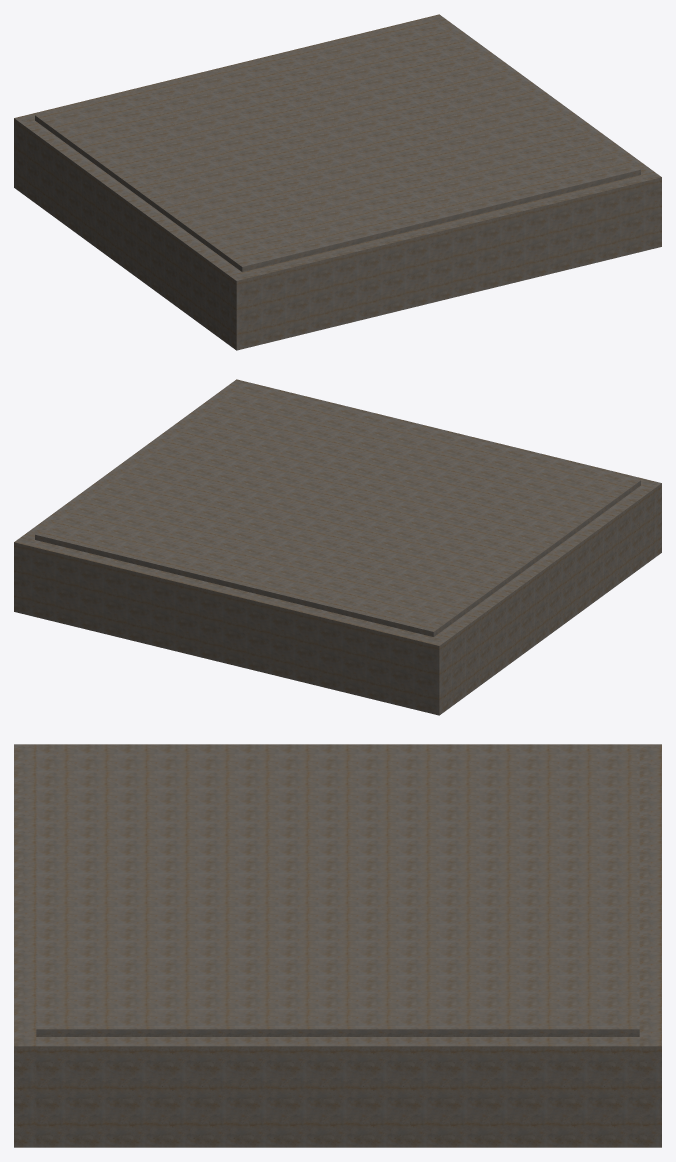
Rendered from cenario-estatico-agrupado-otimizado.glb.
3 views of the same model, one above another, from view 1: azimuth 30°, elevation 25°; view 2: azimuth 150°, elevation 25°; view 3: azimuth 270°, elevation 25° (orthographic). The views are drawn at different scales.
Visible parts, largest first — view 1: StaticBatch; view 2: StaticBatch; view 3: StaticBatch.
Boxes of the visible parts, x1=… form: StaticBatch: x1=14, y1=14, x2=661, y2=350; StaticBatch: x1=14, y1=379, x2=661, y2=715; StaticBatch: x1=14, y1=744, x2=661, y2=1147.
Bounding box in the file's own units: 20.48 × 3.74 × 18.56.
2 materials, 2 textured.
